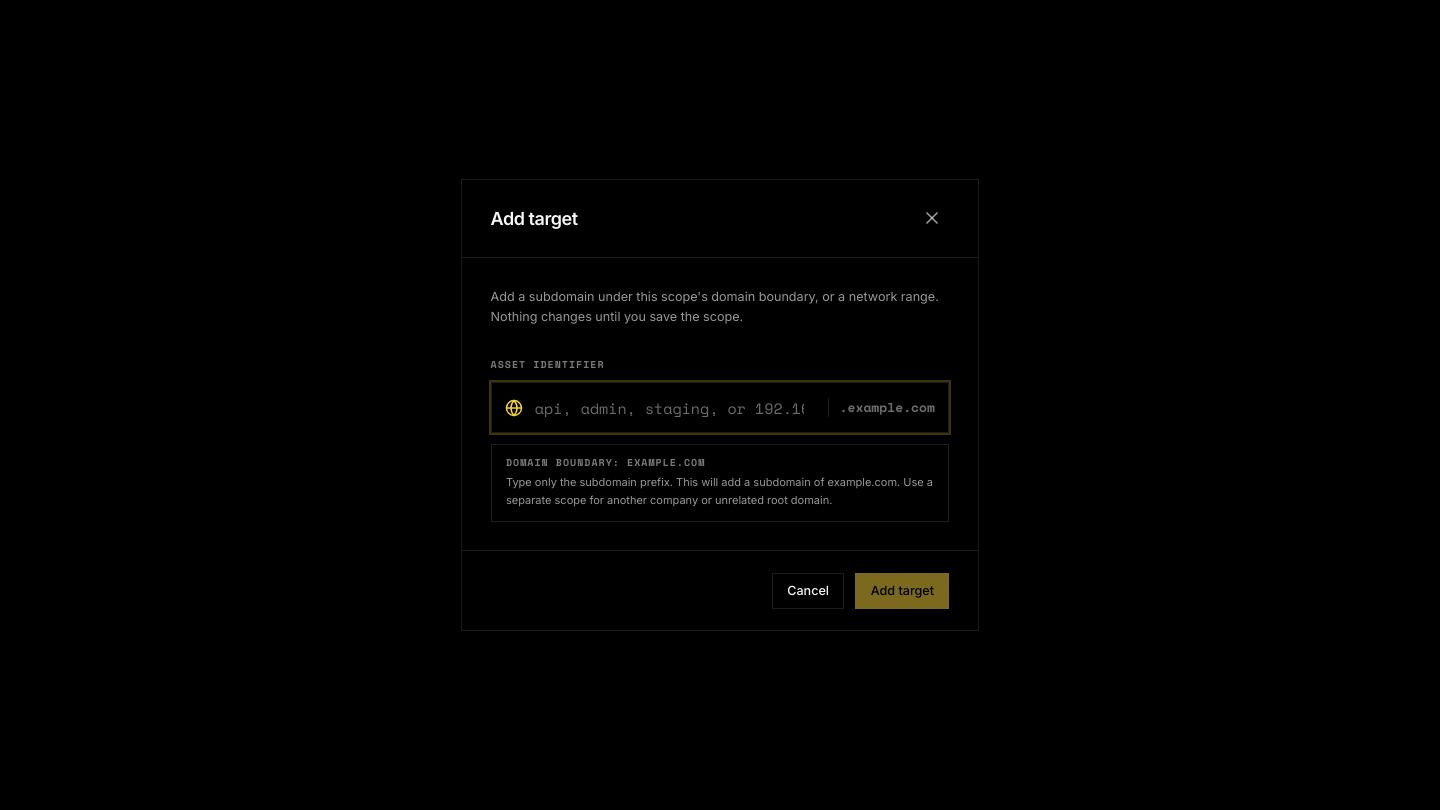
Test: AddTargetModal › explains the existing domain boundary when adding another domain target
Type "api.example.com" into the field.
click(720, 408); type("api.example.com")  # box top-left (491, 382), bottom-right (949, 433)
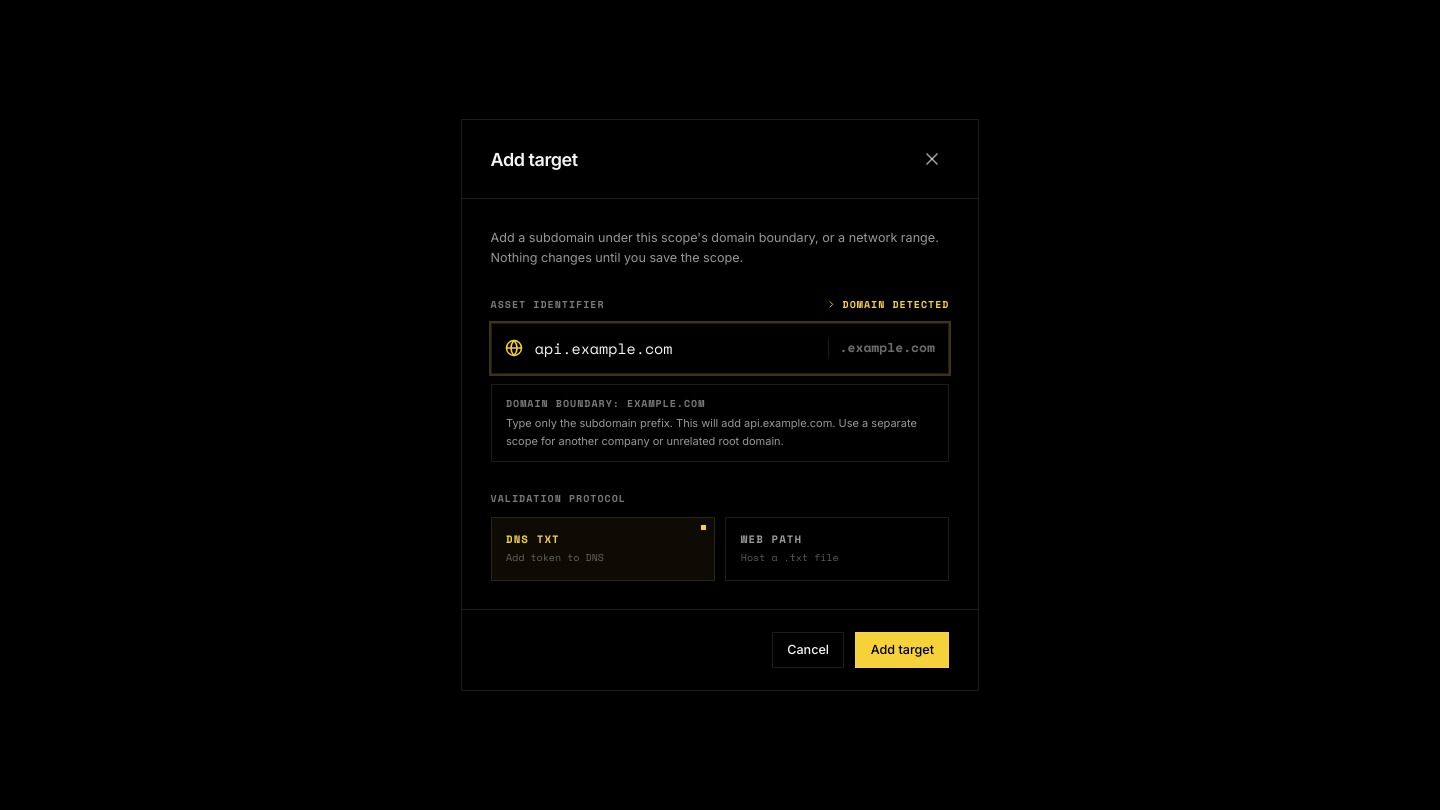
expect the text "Domain boundary: example.com" is shown: met, box top-left (506, 396), bottom-right (705, 411)
expect the text "This will add api.example.com" is shown: met, box top-left (506, 415), bottom-right (934, 451)
